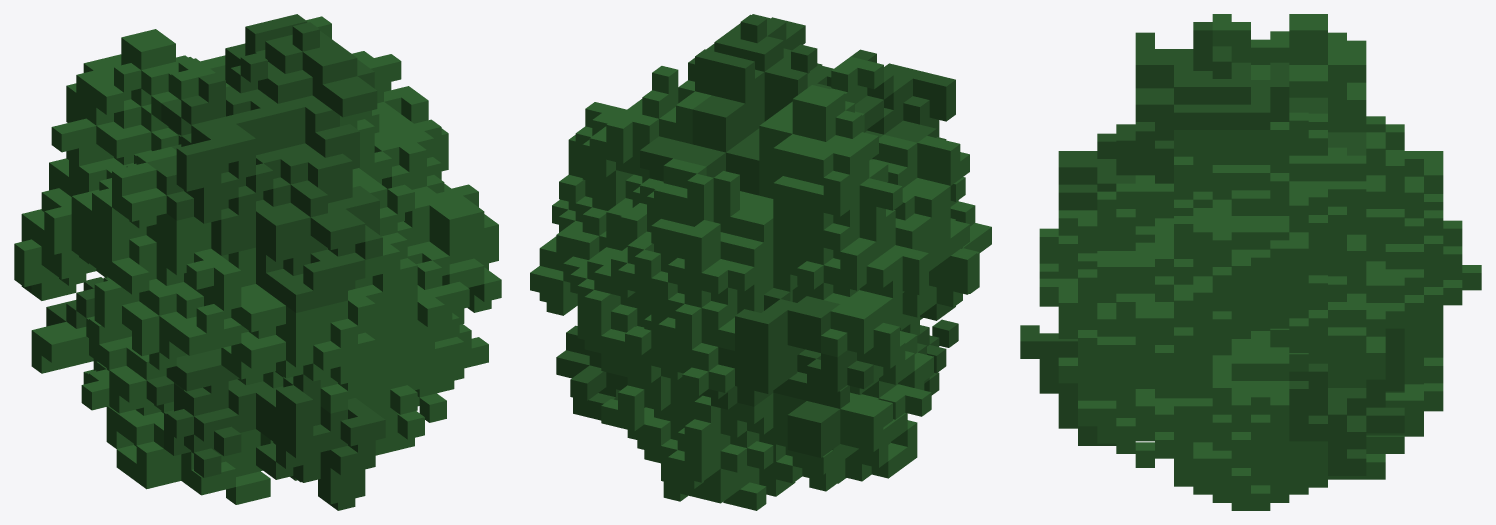
Rendered from Medieval Assets-330-Vegetation - Tree top - Fat - Dark Green.obj.
3 renders of one model, left to right at view 1: azimuth 30°, elevation 25°; view 2: azimuth 150°, elevation 25°; view 3: azimuth 270°, elevation 25°, orthographic. The views are drawn at different scales.
Parts seen in each view (by area): view 1: Vegetation - Tree top - Fat - Dark Green; view 2: Vegetation - Tree top - Fat - Dark Green; view 3: Vegetation - Tree top - Fat - Dark Green.
Part boxes in pixels (bbox=[...]): Vegetation - Tree top - Fat - Dark Green: bbox=[14, 14, 501, 510]; Vegetation - Tree top - Fat - Dark Green: bbox=[530, 14, 991, 510]; Vegetation - Tree top - Fat - Dark Green: bbox=[1020, 14, 1481, 510].
Size of the model in its own units: 2.2 by 2.4 by 2.4.
1 material, 1 textured.
